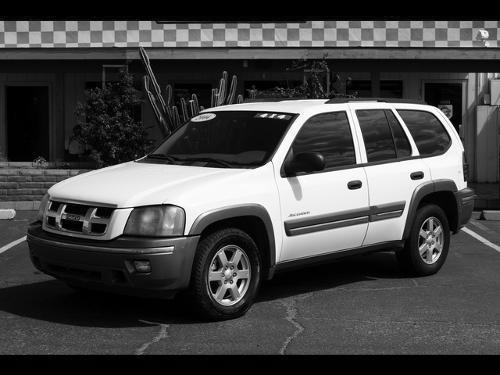car: (28, 96, 477, 317)
